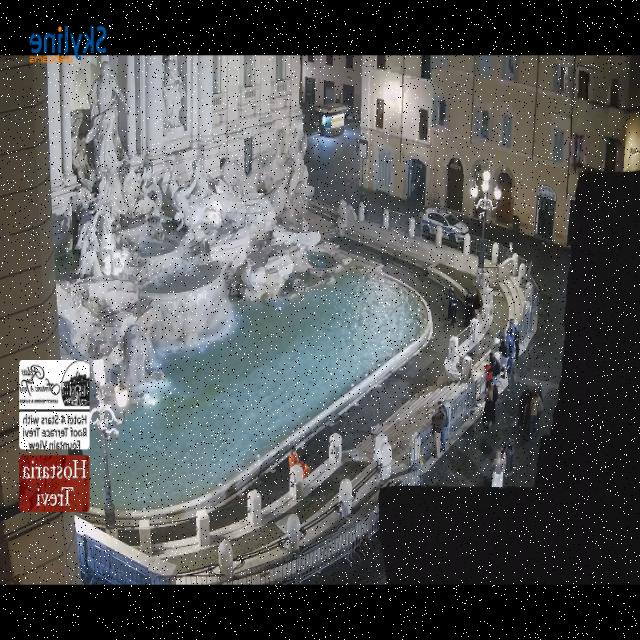person: (482, 380, 497, 427), (529, 388, 542, 438), (431, 406, 443, 457), (491, 445, 505, 488), (517, 389, 531, 430), (437, 402, 447, 451), (497, 331, 507, 378), (504, 331, 514, 375), (488, 352, 499, 384), (464, 291, 474, 325), (448, 288, 456, 324), (298, 455, 309, 478), (514, 321, 520, 360), (447, 286, 453, 319), (288, 450, 298, 469), (506, 319, 514, 341), (484, 364, 491, 385), (473, 290, 479, 311)
